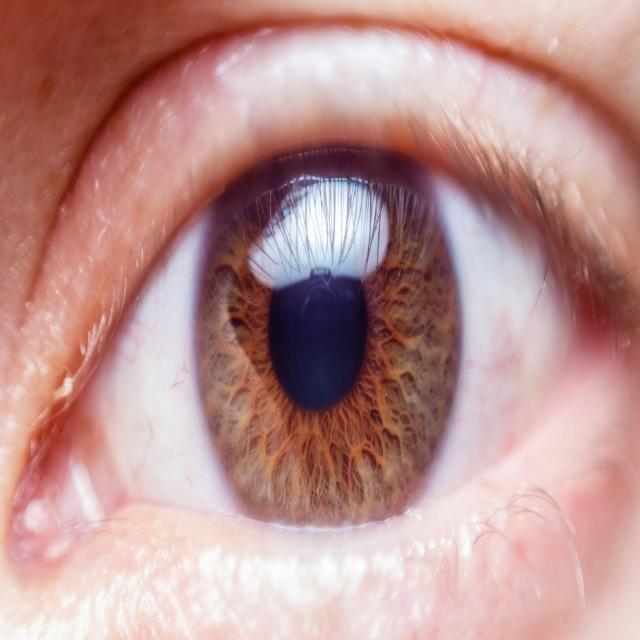Normal: (2, 0, 638, 639)
